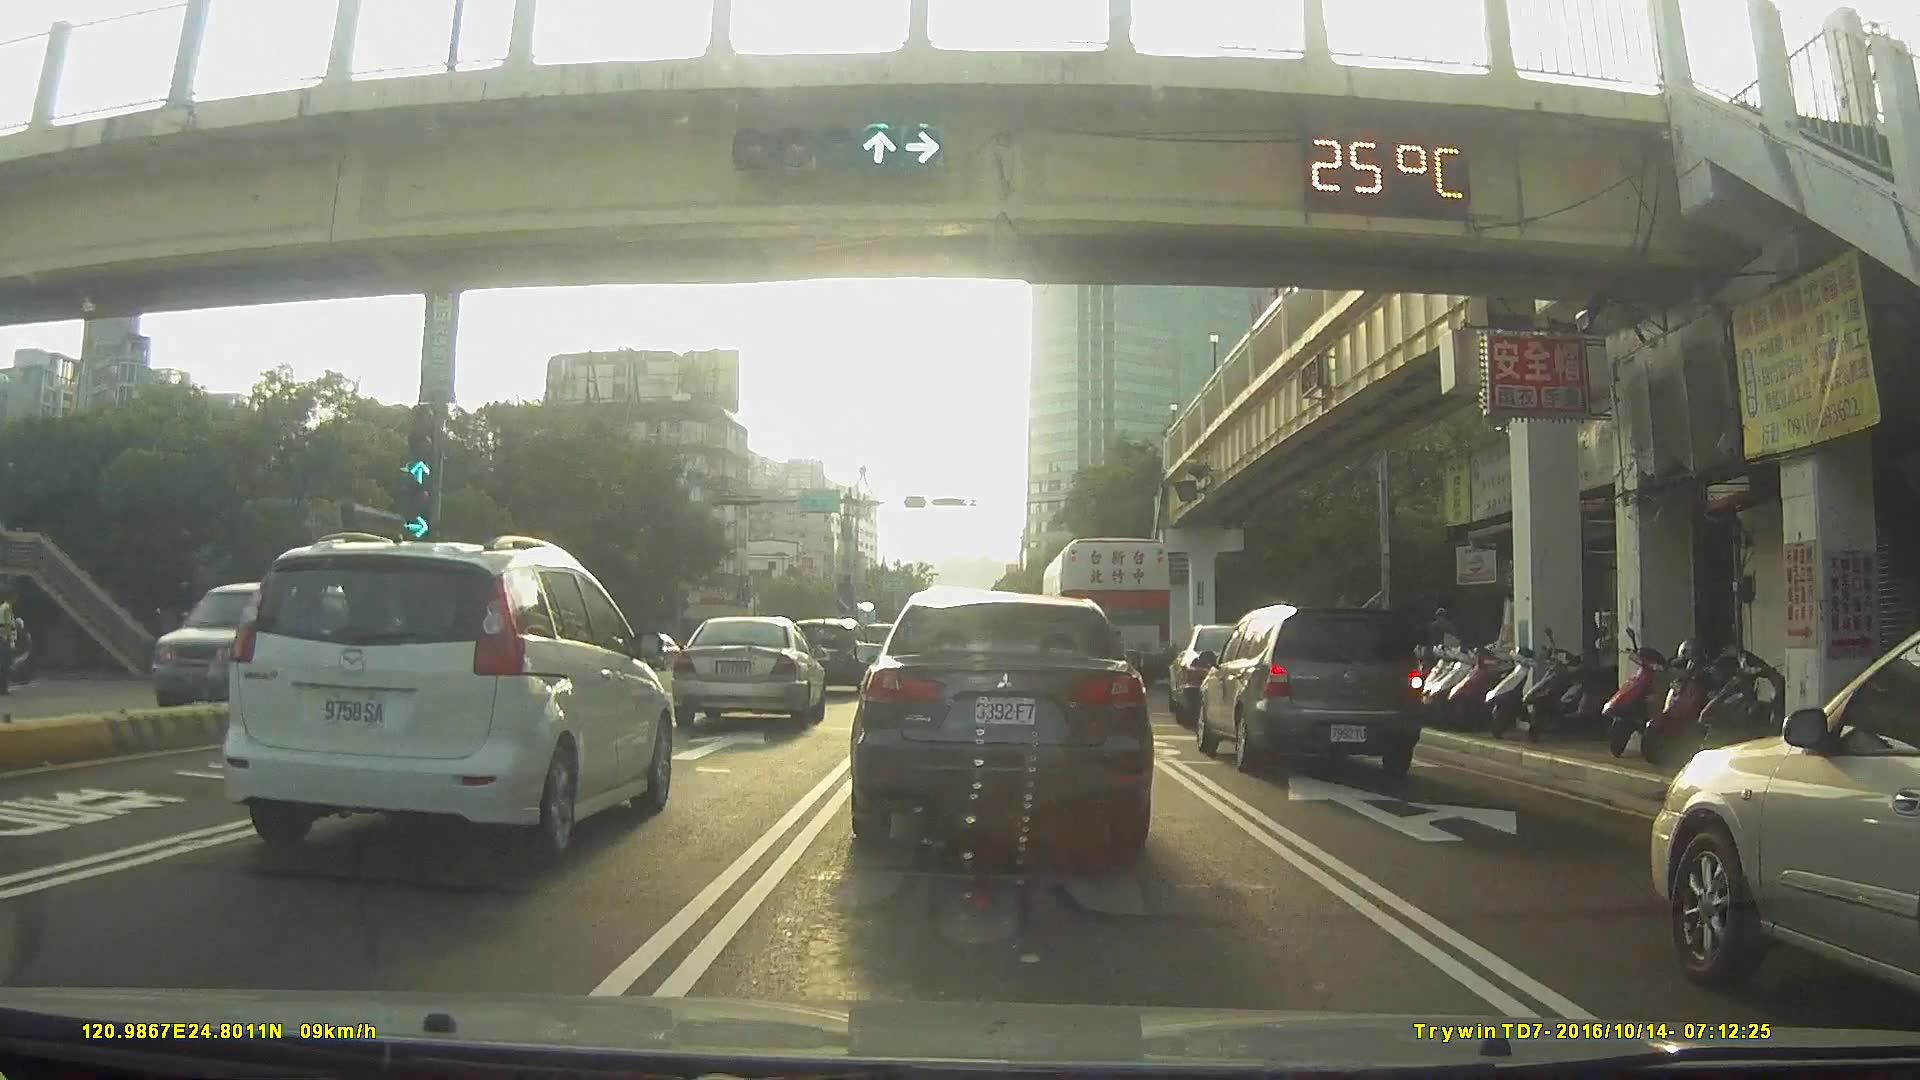vehicle: (210, 531, 678, 865), (1648, 626, 1920, 996), (848, 588, 1150, 858), (1193, 604, 1422, 781), (135, 578, 349, 717), (1036, 537, 1178, 690), (669, 613, 822, 729), (1178, 622, 1302, 721), (782, 618, 866, 696), (644, 633, 698, 676)
